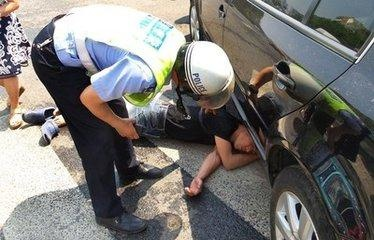falling: (16, 55, 270, 210)
